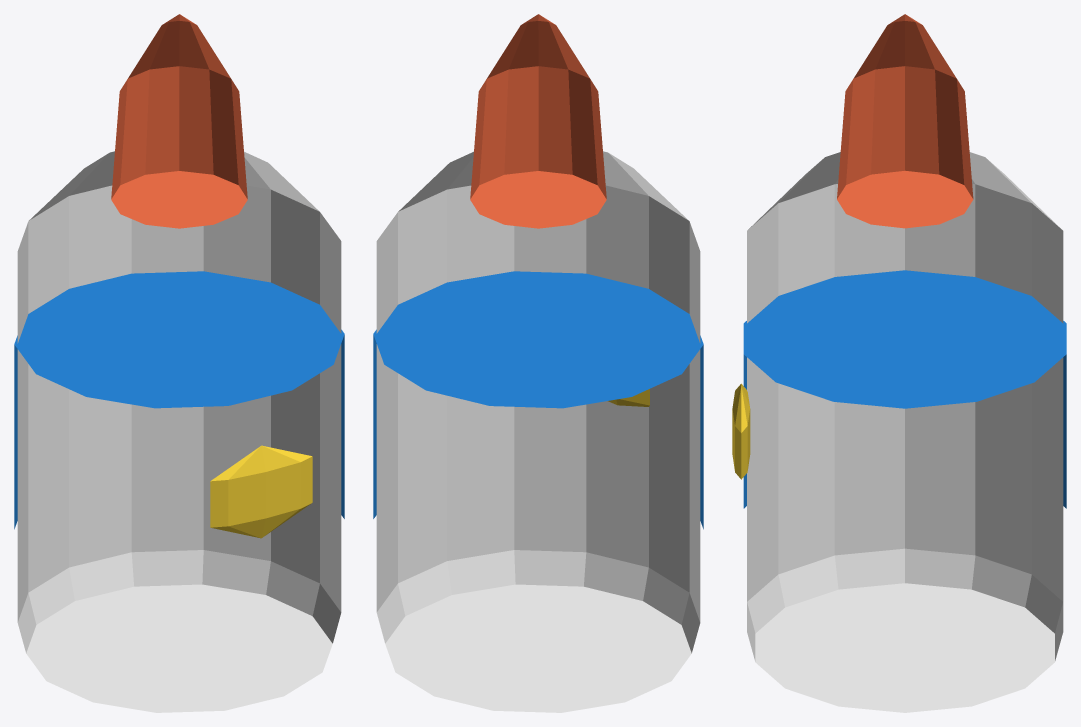
Rendered from lim.glb.
3 views of the same model, side by side, from view 1: azimuth 30°, elevation 25°; view 2: azimuth 150°, elevation 25°; view 3: azimuth 270°, elevation 25° (orthographic).
Visible parts, largest first — view 1: lim; view 2: lim; view 3: lim.
Boxes of the visible parts, x1,y1,x2,y2 form: lim: (14,14,344,712); lim: (373,14,703,712); lim: (732,14,1066,712).
Size of the model in its own units: 0.194 by 0.41 by 0.1958.
